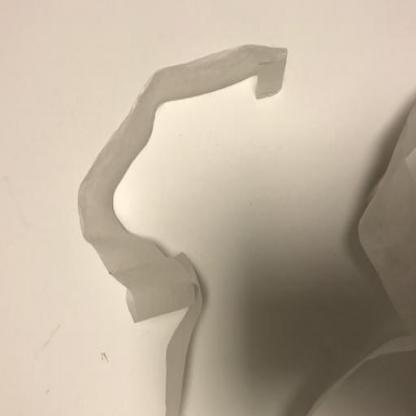trash: (77, 44, 415, 416)
